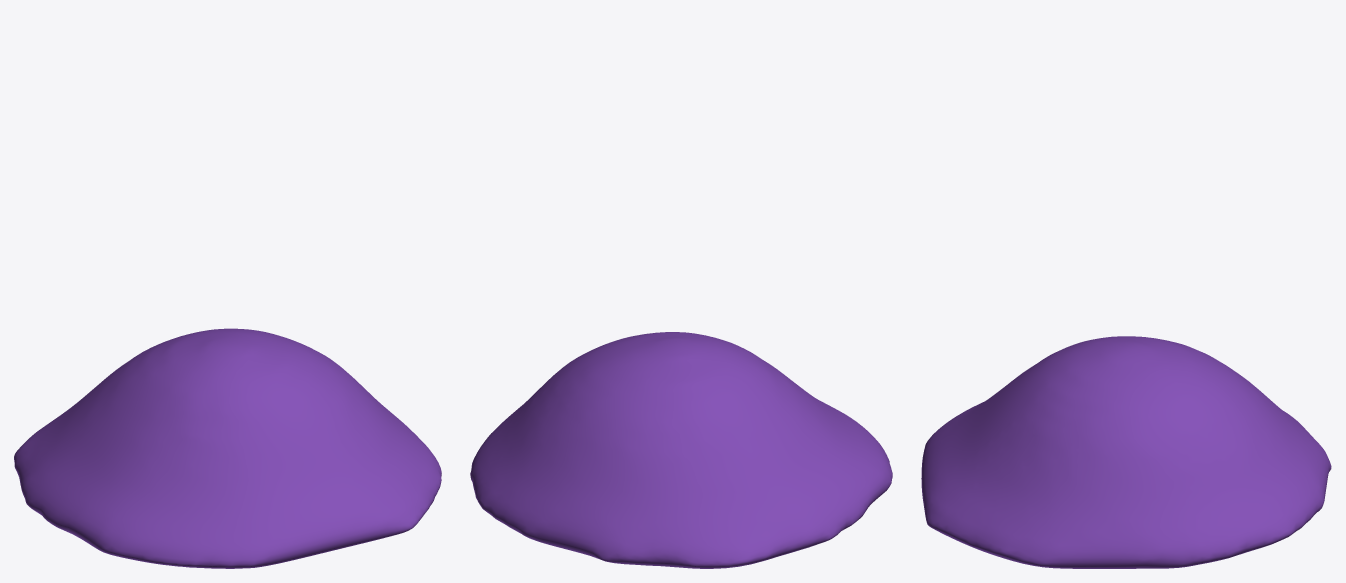
Rendered from slime_0036.dae.
3 renders of one model, left to right at view 1: azimuth 30°, elevation 25°; view 2: azimuth 150°, elevation 25°; view 3: azimuth 270°, elevation 25°, orthographic.
Visible parts, largest first — view 1: Slime; view 2: Slime; view 3: Slime.
Boxes of the visible parts, bbox=[...] form: Slime: bbox=[14, 328, 441, 568]; Slime: bbox=[470, 332, 892, 568]; Slime: bbox=[921, 336, 1331, 568].
Bounding box in the file's own units: 2.93 × 3.77 × 2.91.
